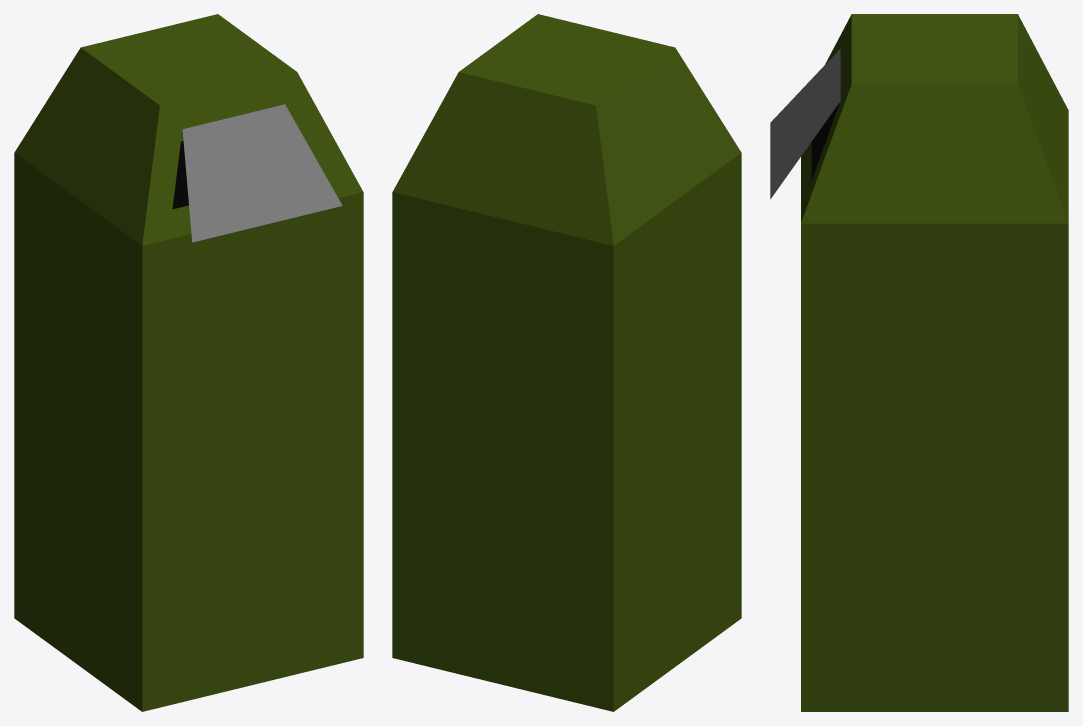
The model's file is Tacho (2).fbx.
3 views of the same model, side by side, from view 1: azimuth 30°, elevation 25°; view 2: azimuth 150°, elevation 25°; view 3: azimuth 270°, elevation 25° (orthographic). The views are drawn at different scales.
Visible parts, largest first — view 1: Cube.001; view 2: Cube.001; view 3: Cube.001.
Boxes of the visible parts, x1=… form: Cube.001: x1=14, y1=14, x2=363, y2=711; Cube.001: x1=392, y1=14, x2=741, y2=711; Cube.001: x1=770, y1=14, x2=1068, y2=711.
Size of the model in its own units: 167 by 416 by 186.
